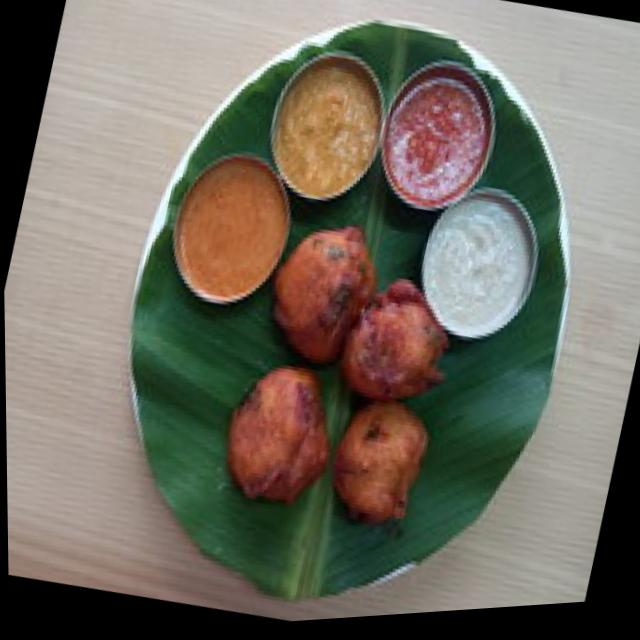BONDA: (229, 232, 446, 519)
KURMA: (178, 160, 290, 302), (271, 59, 380, 198)
RED CHUTNEY: (386, 66, 489, 203)
WHITE CHUTNEY: (421, 189, 537, 339)
